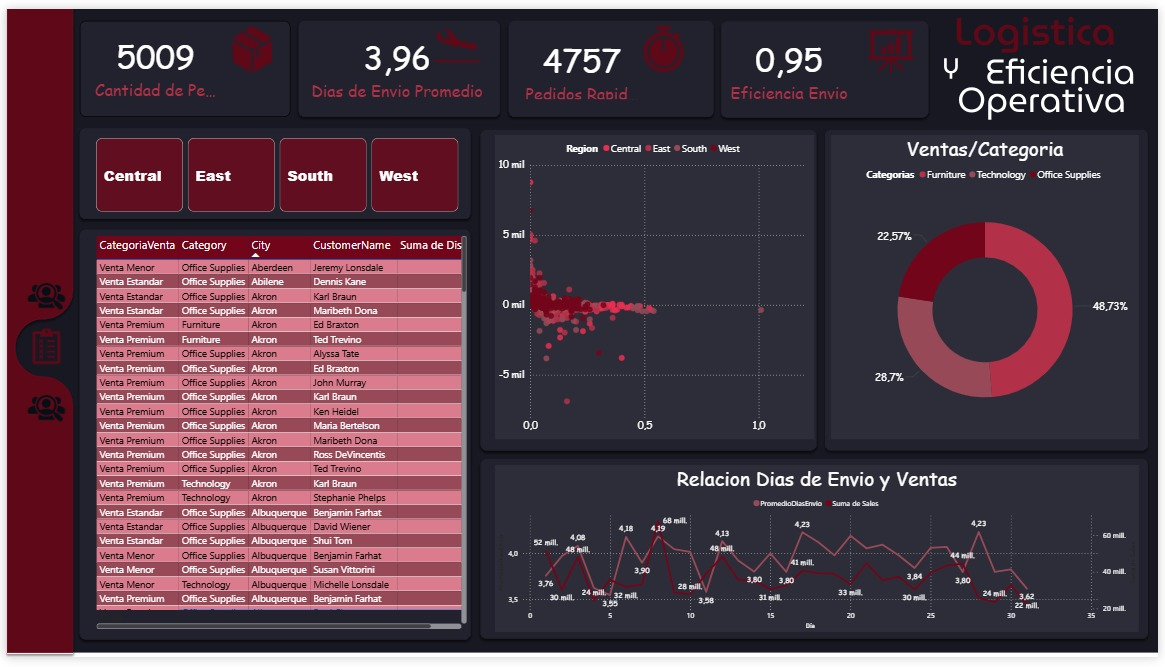

What the dashboard file says about the page in this screenshot:
{"tool":"powerbi","page":{"name":"Logistica y eficiencia operativa","canvas":[1920,1080],"ordinal":1},"visuals":[{"type":"donutChart","title":"Ventas/Categoria","fields":{"Y":["vw_DataPowerBI.Sales"],"Category":["vw_DataPowerBI.Category"]},"box":[1375,210,513.3,506.7],"z":0},{"type":"scatterChart","fields":{"Y":["vw_DataPowerBI.Profit"],"Series":["vw_DataPowerBI.Region"],"X":["vw_DataPowerBI.Discount"],"Category":["vw_DataPowerBI.OrderID"]},"box":[815,210,531.7,506.7],"z":1000},{"type":"lineChart","title":"Relacion Dias de Envio y Ventas","fields":{"Y":["LogisticaEficienciaOpetiva.PromedioDiasEnvio"],"Category":["vw_DataPowerBI.OrderDate.Variación.Jerarquía de fechas.Día"],"Y2":["vw_DataPowerBI.Sales"]},"box":[815,760,1073.3,278.3],"z":2000},{"type":"tableEx","fields":{"Values":["vw_DataPowerBI.CategoriaVenta","vw_DataPowerBI.Category","vw_DataPowerBI.City","vw_DataPowerBI.CustomerName","vw_DataPowerBI.Discount"]},"box":[145,373.3,628.3,665],"z":3000},{"type":"advancedSlicerVisual","fields":{"Values":["vw_DataPowerBI.Region"]},"box":[145,210,616.7,133.3],"z":4000},{"type":"card","fields":{"Values":["LogisticaEficienciaOpetiva.CantidadPedidos"]},"box":[138.3,31.7,221.7,128.3],"z":5000},{"type":"card","fields":{"Values":["LogisticaEficienciaOpetiva.PromedioDiasEnvio"]},"box":[488.3,25,326.7,143.3],"z":6000},{"type":"card","fields":{"Values":["LogisticaEficienciaOpetiva.PedidosRapidos"]},"box":[856.7,48.3,206.7,106.7],"z":7000},{"type":"card","fields":{"Values":["LogisticaEficienciaOpetiva.EficienciaEnvio"]},"box":[1195,40,220,120],"z":8000},{"type":"actionButton","box":[28.3,520,78.3,83.3],"z":9000},{"type":"actionButton","box":[28.3,436.7,78.3,83.3],"z":10000},{"type":"actionButton","box":[28.3,623.3,78.3,83.3],"z":11000}]}

Visuals, with their boxes in screenshot pixels (x1, y1, x2, y2), scaled from the page's 1920x1080 canvas onto the 1165x667 screenshot:
"Ventas/Categoria" donutChart: (left=834, top=130, right=1146, bottom=443)
scatterChart - vw_DataPowerBI.Profit x vw_DataPowerBI.Region: (left=495, top=130, right=817, bottom=443)
"Relacion Dias de Envio y Ventas" lineChart: (left=495, top=469, right=1146, bottom=641)
tableEx - vw_DataPowerBI.CategoriaVenta x vw_DataPowerBI.Category: (left=88, top=231, right=469, bottom=641)
advancedSlicerVisual - vw_DataPowerBI.Region: (left=88, top=130, right=462, bottom=212)
card - LogisticaEficienciaOpetiva.CantidadPedidos: (left=84, top=20, right=218, bottom=99)
card - LogisticaEficienciaOpetiva.PromedioDiasEnvio: (left=296, top=15, right=495, bottom=104)
card - LogisticaEficienciaOpetiva.PedidosRapidos: (left=520, top=30, right=645, bottom=96)
card - LogisticaEficienciaOpetiva.EficienciaEnvio: (left=725, top=25, right=859, bottom=99)
actionButton: (left=17, top=321, right=65, bottom=373)
actionButton: (left=17, top=270, right=65, bottom=321)
actionButton: (left=17, top=385, right=65, bottom=436)
